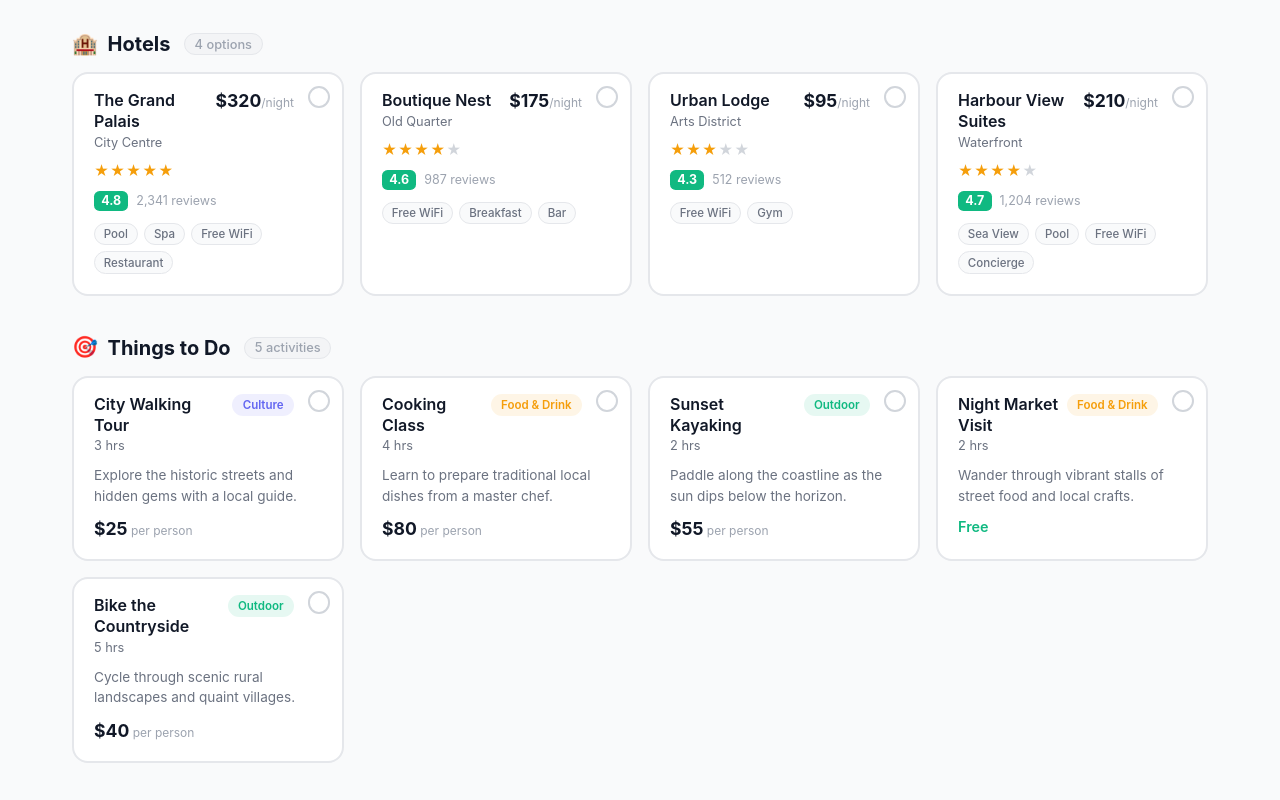
Scenario: SelectablePlanGrid › shows an error message when plan creation fails
What coordinates should you click on to do the following:
click the checkbox labelled "The Grand Palais"
I would click on:
 (208, 184)
Its box is [72, 72, 344, 296].
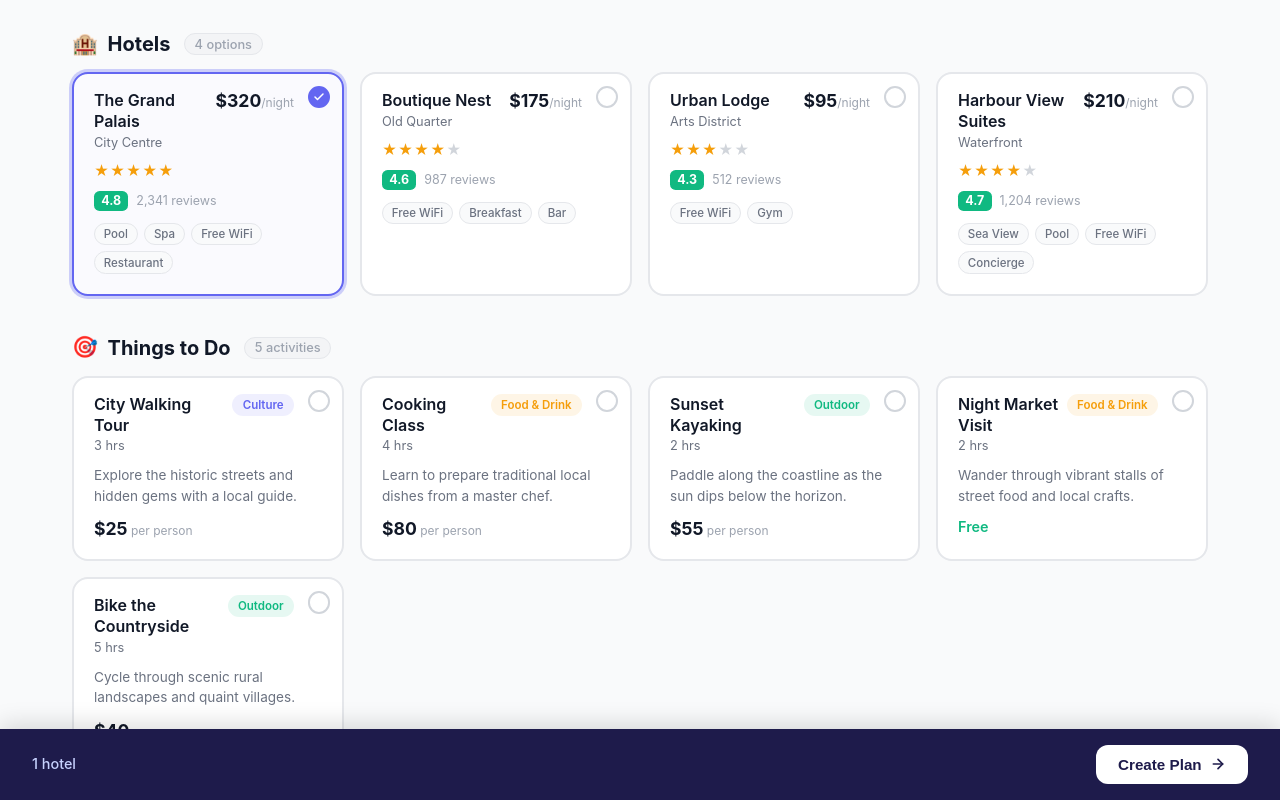
What coordinates should you click on to do the following:
click the button "Create Plan"
I would click on:
 (1172, 764)
Its box is [1096, 745, 1248, 784].
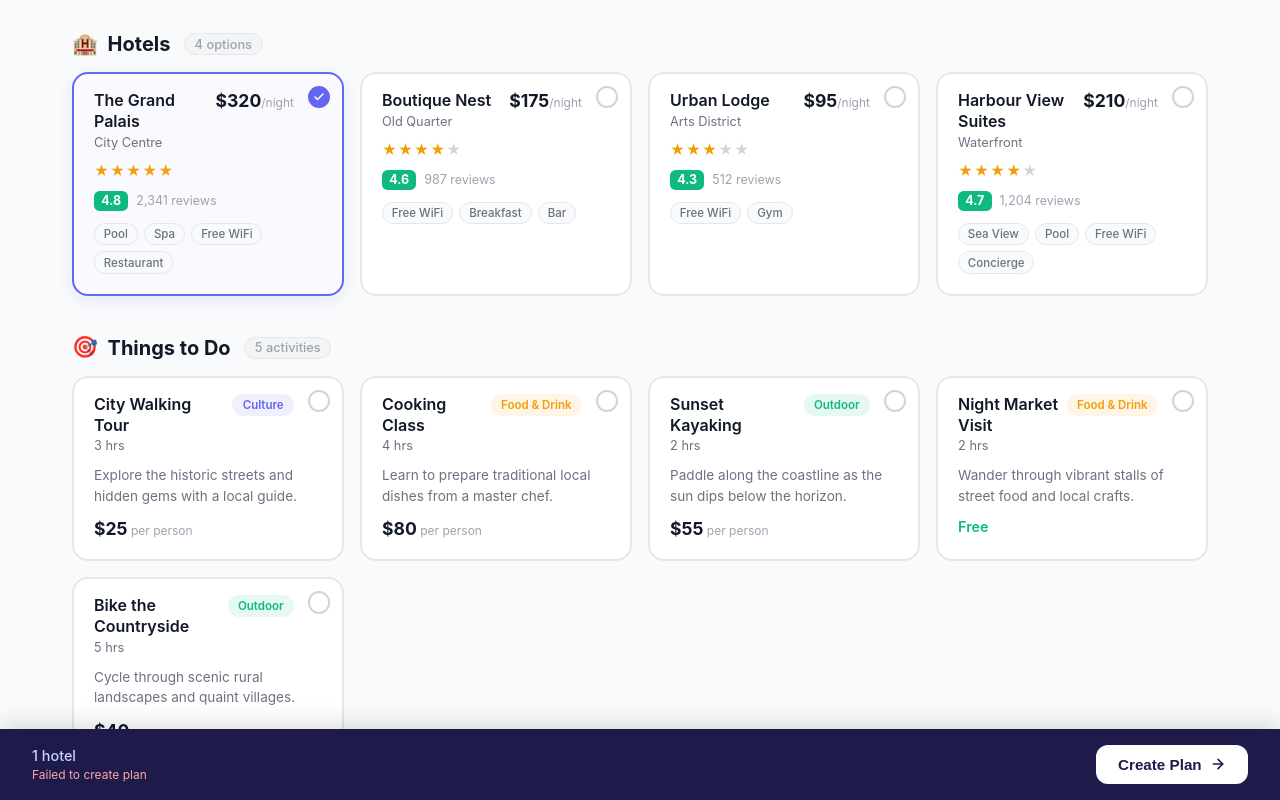
Now the text "Failed to create plan" is shown, box [32, 766, 147, 782]
